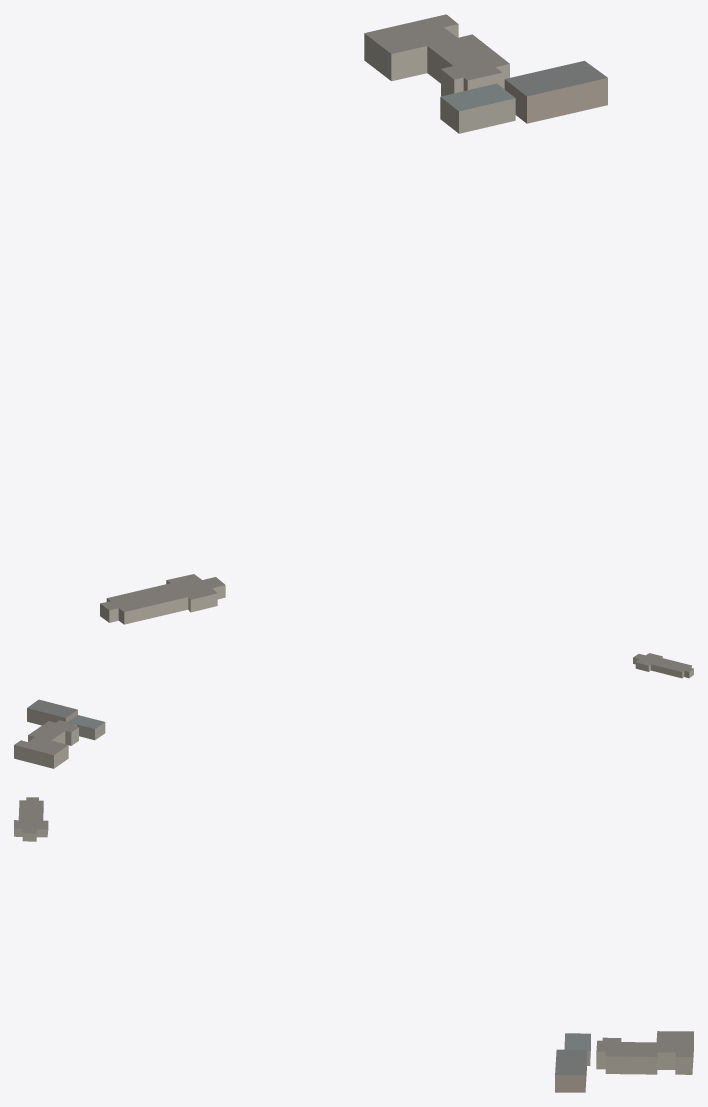
The model's file is dbe587cc6a28-chunk-1204_11841.glb.
3 renders of one model, top to bottom at view 1: azimuth 30°, elevation 25°; view 2: azimuth 150°, elevation 25°; view 3: azimuth 270°, elevation 25°, orthographic. The views are drawn at different scales.
Visible parts, largest first — view 1: building_88038, building_60195, building_155182, building_48327; view 2: building_88038, building_155182, building_60195, building_48327; view 3: building_88038, building_60195, building_155182, building_48327.
Part boxes in pixels (x1,y1,x2,y2): building_88038: (364,14,509,96); building_60195: (504,60,607,123); building_155182: (100,574,225,624); building_48327: (440,83,515,133); building_88038: (14,720,78,768); building_155182: (633,653,693,678); building_60195: (27,699,77,725); building_48327: (68,715,105,740); building_88038: (596,1031,693,1074); building_60195: (555,1049,586,1092); building_155182: (14,797,48,841); building_48327: (564,1033,590,1065).
Size of the model in its own units: 392 by 11.3 by 392.
